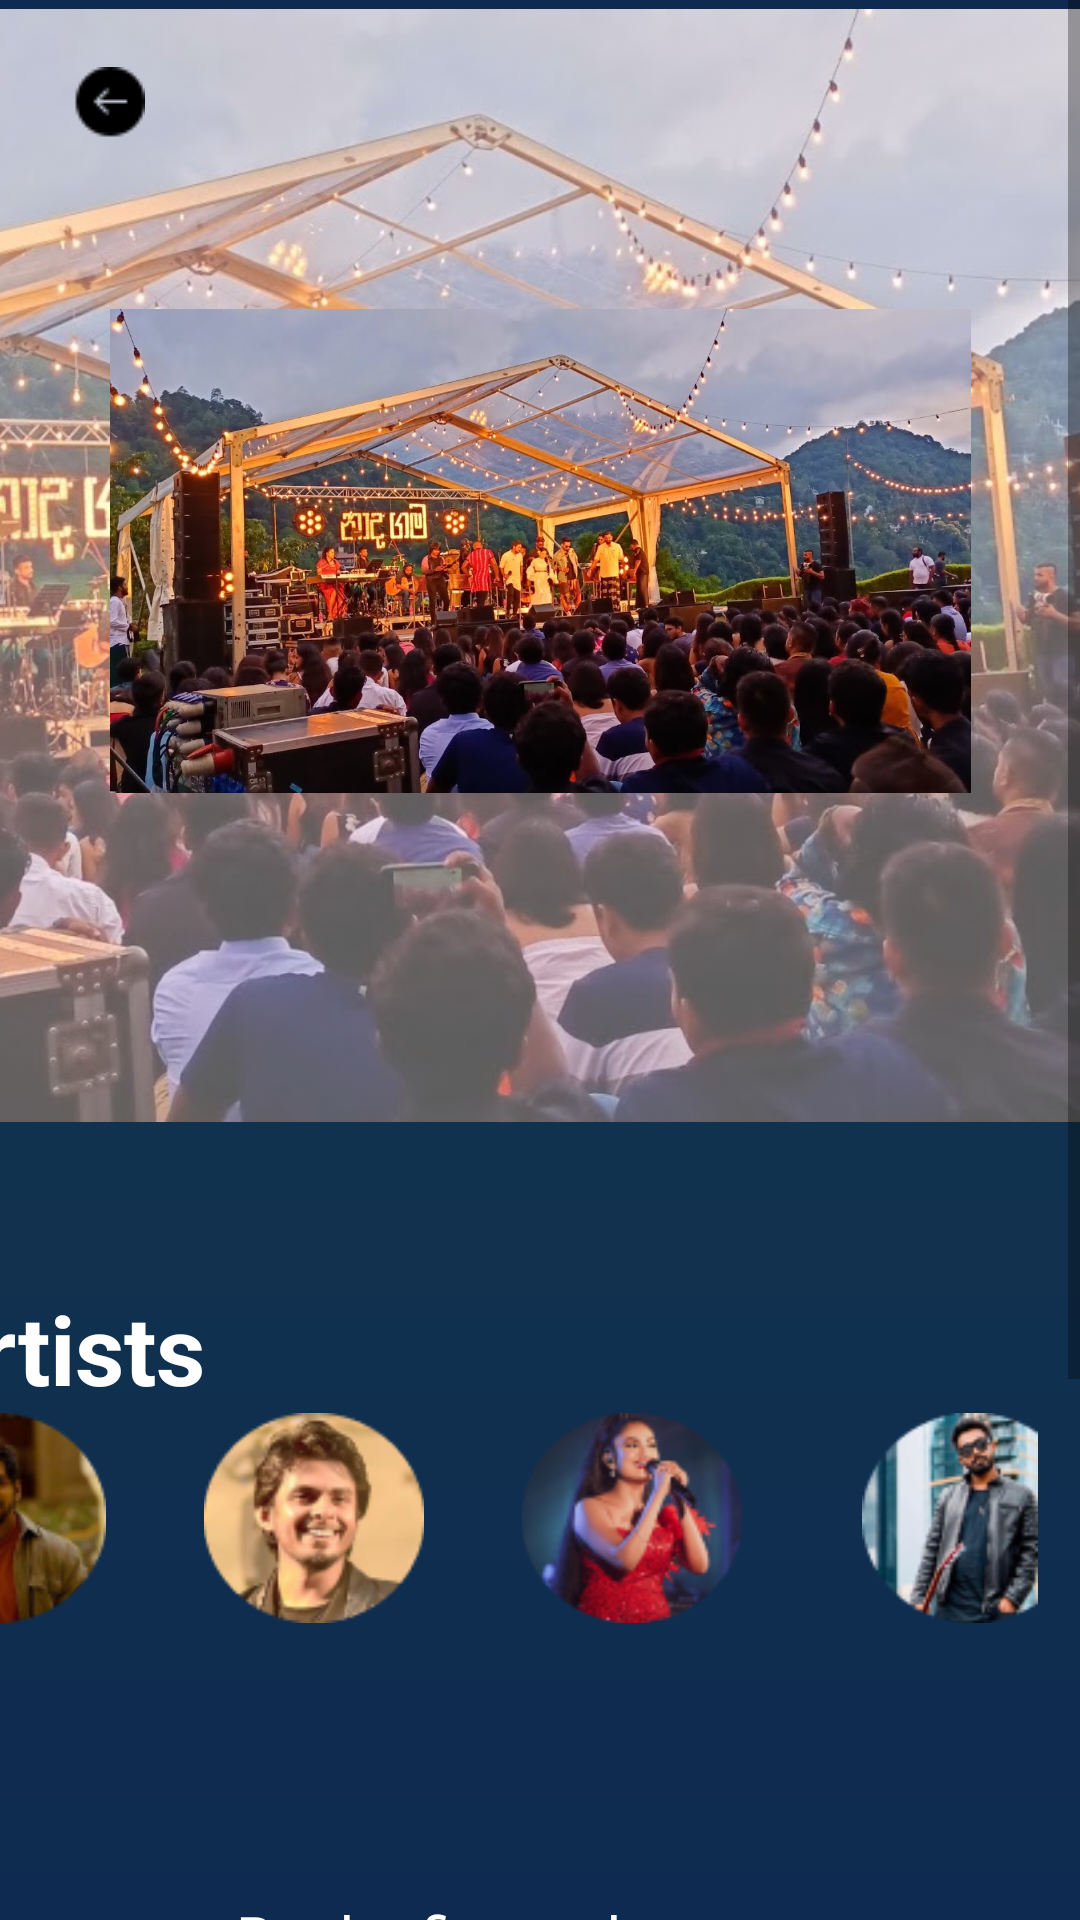

Named icons in this screenshot (1080x1920) and their centers, (x=x, y=y):
arrow: (x=110, y=102)
